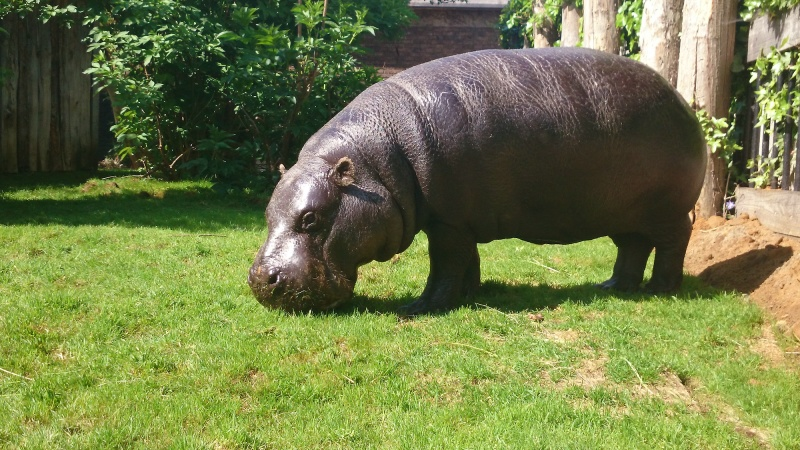hipopotamo: (246, 46, 711, 319)
